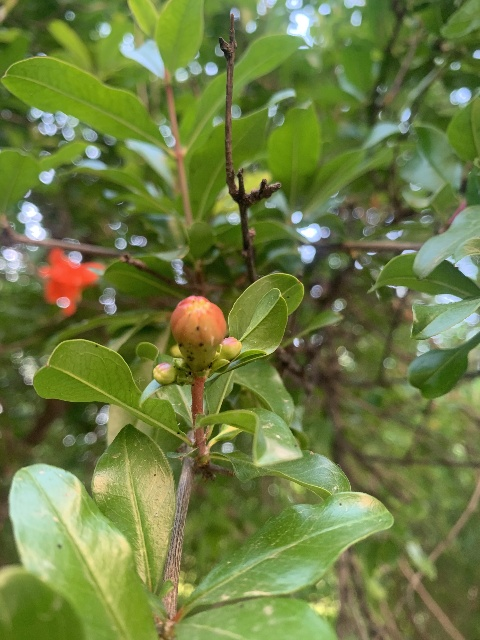bud: (170, 294, 226, 369), (218, 337, 242, 360), (152, 363, 176, 385)
flower: (37, 248, 104, 316)
